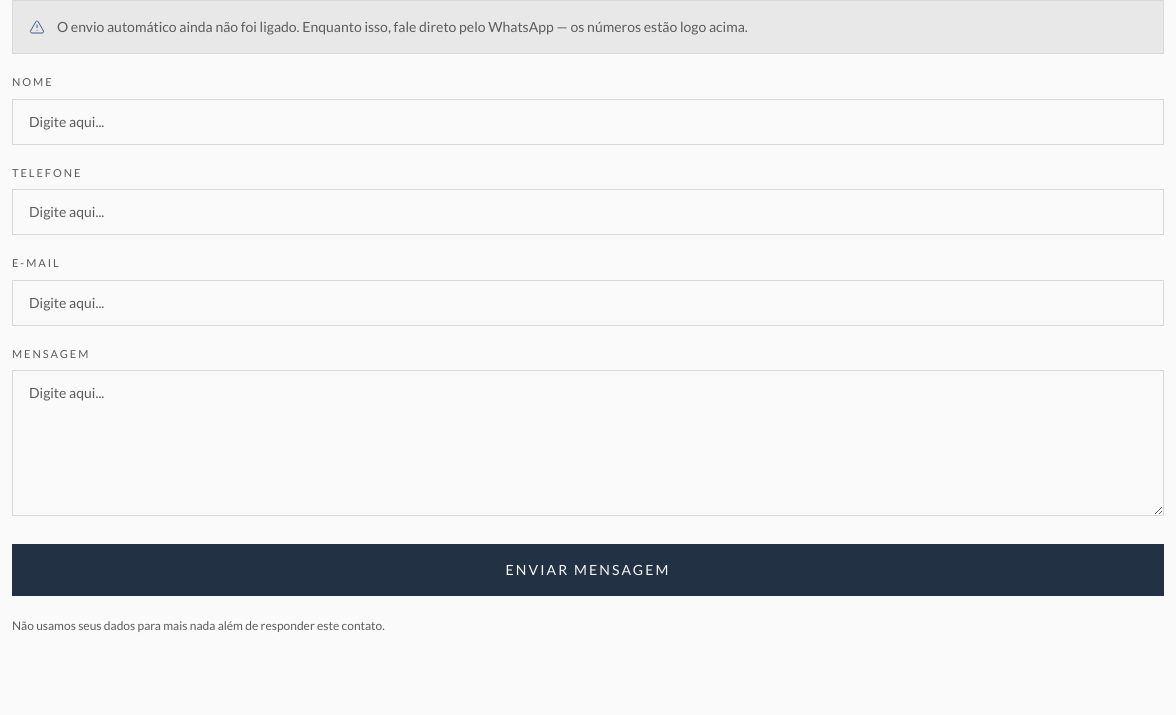
it: formulário de contato › não envia com os campos vazios e diz o que falta
What coordinates should you click on to do the following:
click the button "Enviar mensagem"
I would click on:
 (588, 570)
Its box is [12,544,1164,596].
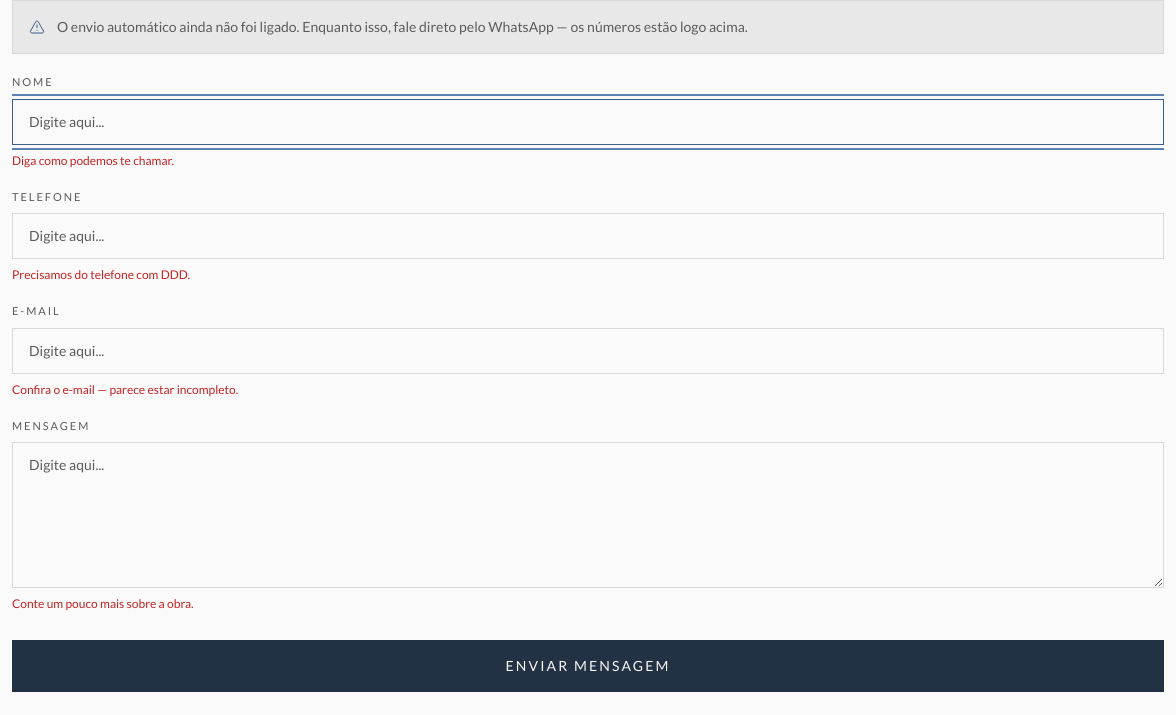
Now the text "Diga como podemos te chamar." is shown, box [12,152,174,168]
Now the text "Precisamos do telefone com DDD." is shown, box [12,267,190,282]
Now the text "Confira o e-mail — parece estar incompleto." is shown, box [12,382,238,396]
